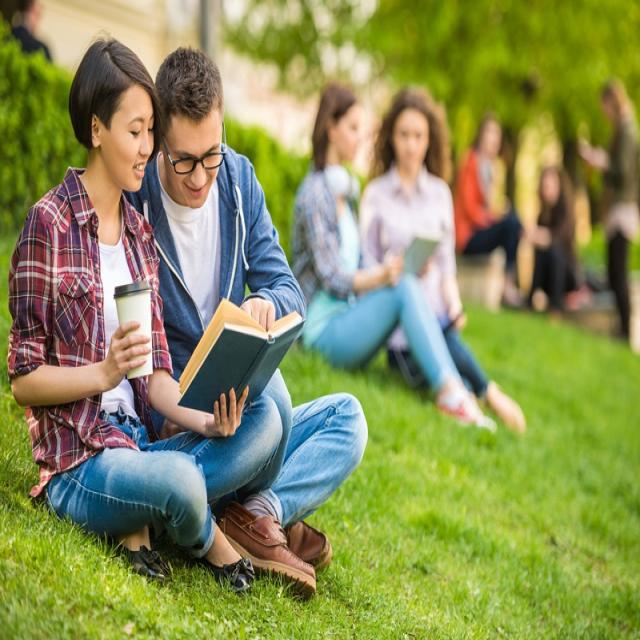body: (2, 23, 288, 604), (132, 44, 370, 600), (286, 77, 502, 440), (354, 77, 530, 441), (578, 71, 640, 357), (449, 108, 527, 312), (515, 160, 583, 318)
